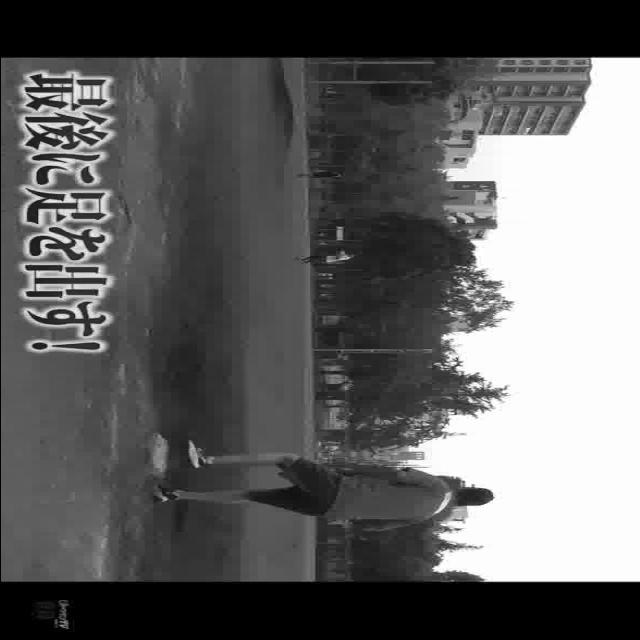base: (144, 434, 170, 476)
shoe: (182, 441, 212, 468), (152, 484, 178, 504)
